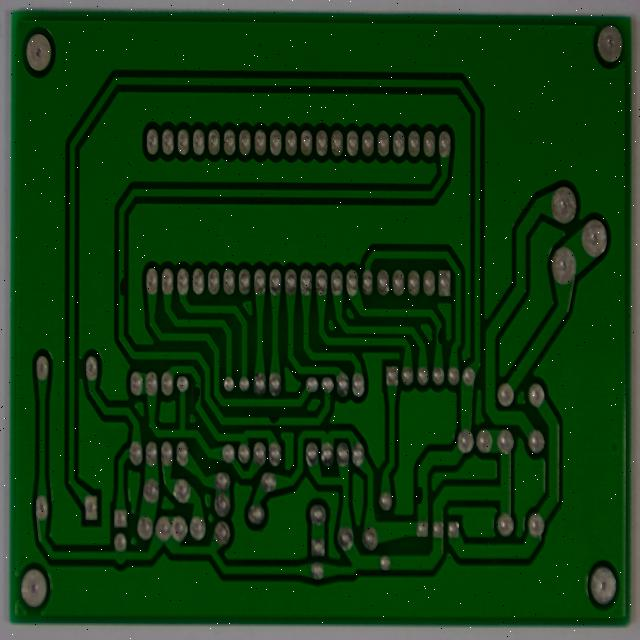mouse_bite: (103, 250, 117, 285), (409, 476, 424, 506), (180, 368, 195, 395), (258, 400, 276, 420), (431, 308, 442, 333)
